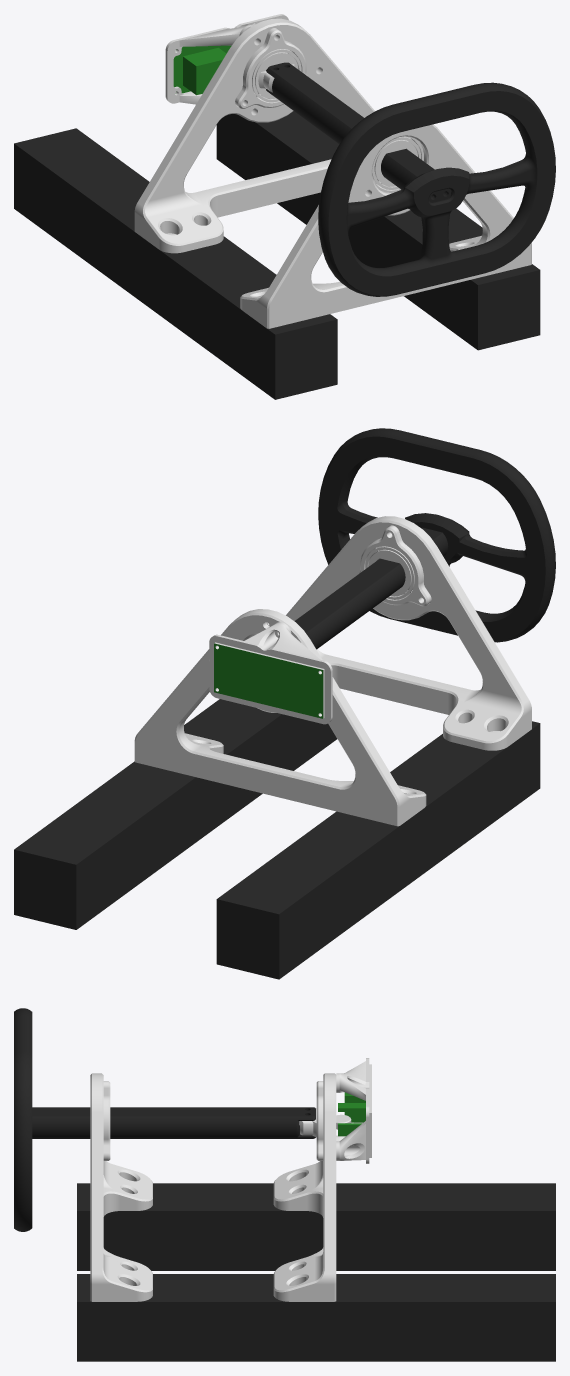
The model's file is Steering Assem Sample.glb.
The picture shows the model from 3 angles, top to bottom: view 1: azimuth 30°, elevation 25°; view 2: azimuth 150°, elevation 25°; view 3: azimuth 270°, elevation 25°; orthographic projection. The views are drawn at different scales.
Parts seen in each view (by area): view 1: Main Assem; view 2: Main Assem; view 3: Main Assem.
Boxes of the visible parts, x1,y1,x2,y2 form: Main Assem: (14,14,555,399); Main Assem: (14,428,555,979); Main Assem: (14,1008,555,1361).
Bounding box in the file's own units: 0.17 × 0.1798 × 0.3281.
